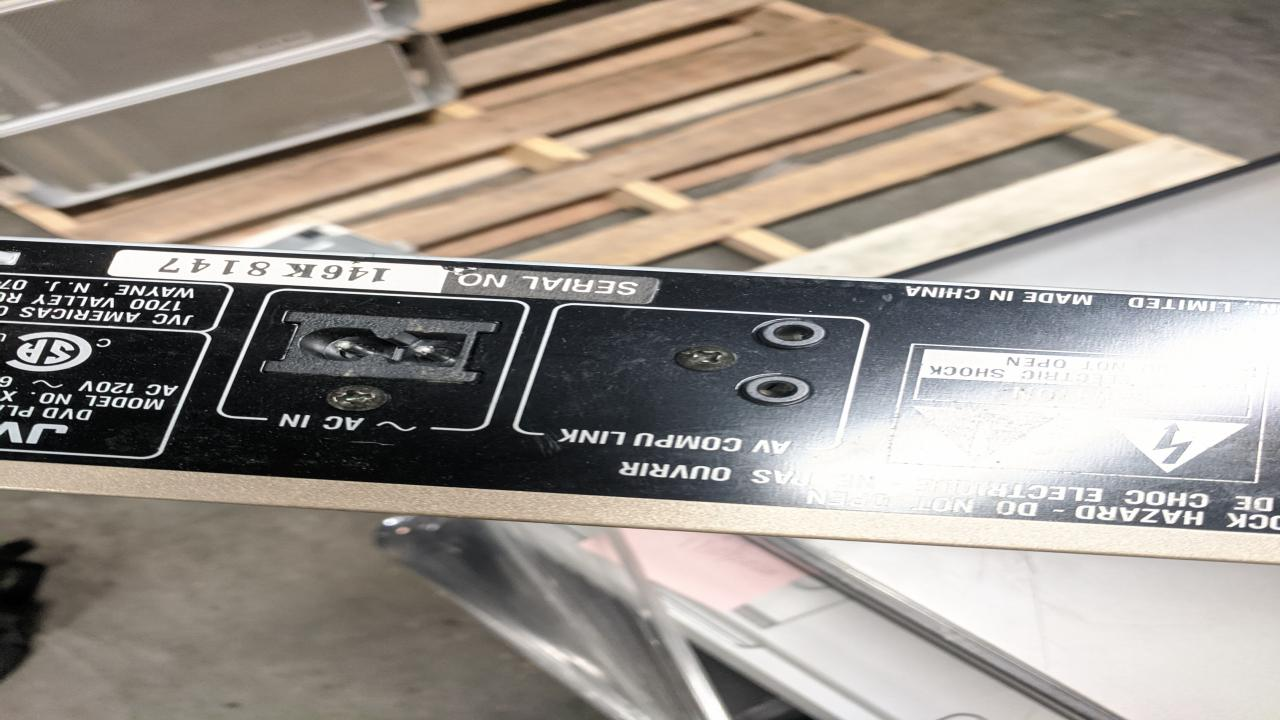CRS: (326, 384, 390, 412), (673, 345, 738, 372)
